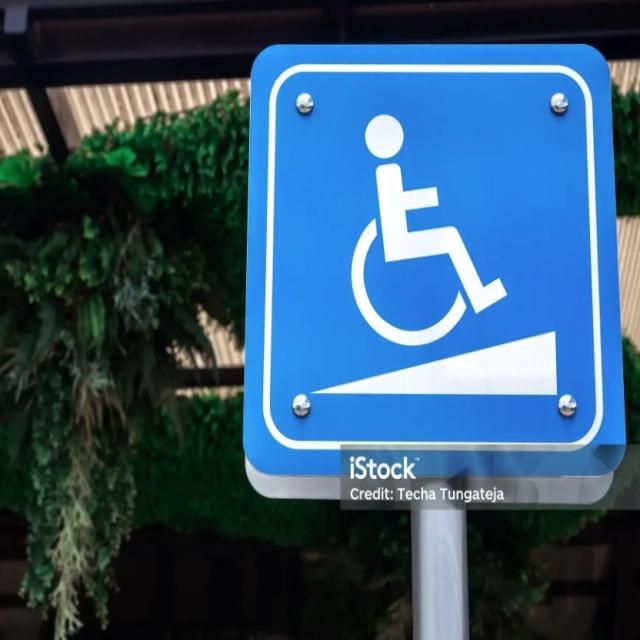symbol_of_access: (241, 37, 628, 476)
